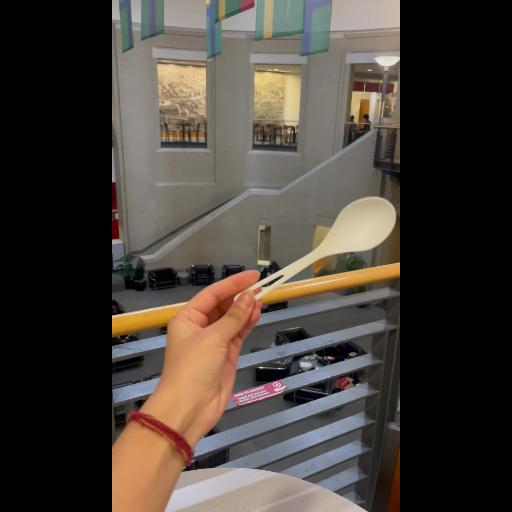utensil: (232, 194, 396, 312)
